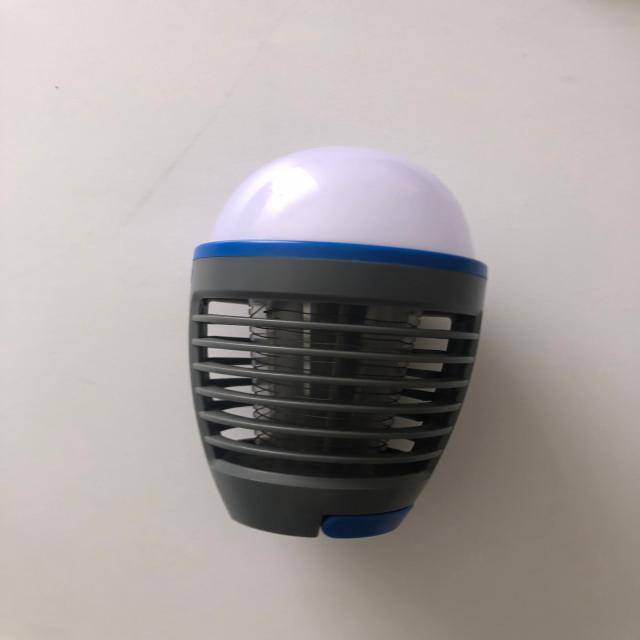Mosquito Killer: (186, 143, 489, 540)
